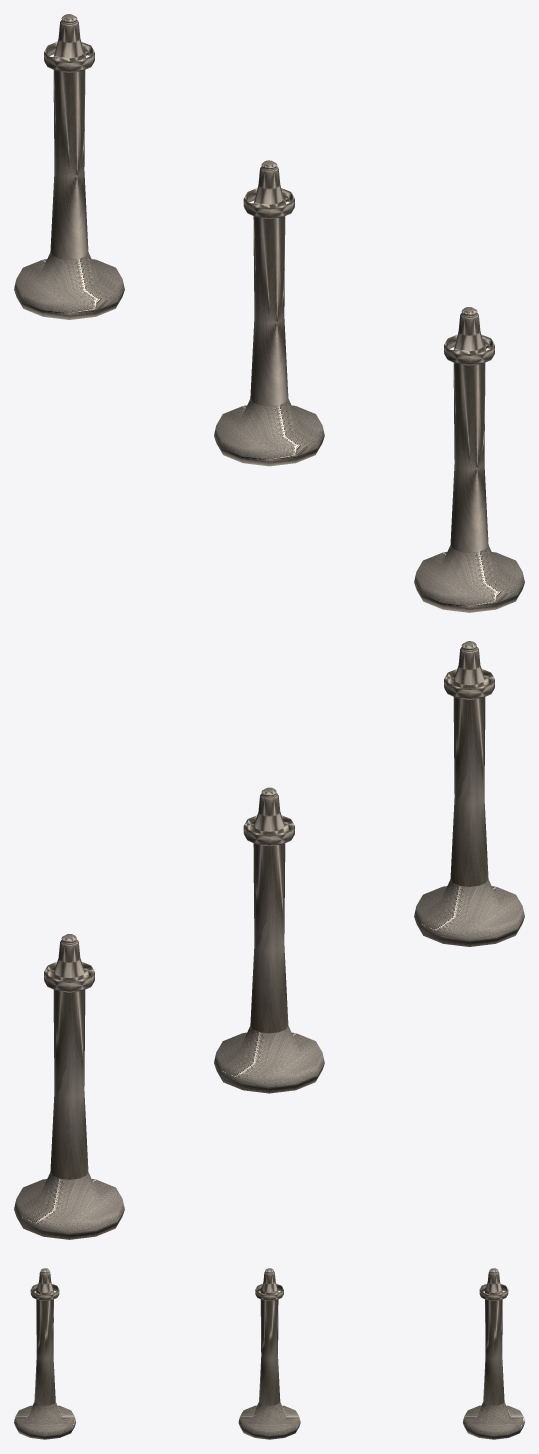
Rendered from pole.fbx.
3 views of the same model, one above another, from view 1: azimuth 30°, elevation 25°; view 2: azimuth 150°, elevation 25°; view 3: azimuth 270°, elevation 25° (orthographic). The views are drawn at different scales.
Parts seen in each view (by area): view 1: polegate3, polegate4, polegate5; view 2: polegate3, polegate4, polegate5; view 3: polegate4, polegate5, polegate3.
Part boxes in pixels (x1,y1,x2,y2): polegate3: [214, 160, 324, 466]; polegate4: [414, 307, 524, 612]; polegate5: [14, 14, 124, 319]; polegate3: [214, 787, 324, 1093]; polegate4: [414, 641, 524, 946]; polegate5: [14, 934, 124, 1239]; polegate4: [14, 1268, 75, 1439]; polegate5: [463, 1268, 524, 1439]; polegate3: [238, 1268, 300, 1439].
Size of the model in its own units: 3 by 8.38 by 24.36.
